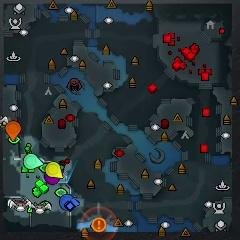Other: (92, 218, 107, 232)
p1: (59, 194, 80, 210)
p2: (23, 154, 43, 168)
p3: (44, 169, 63, 185)
p4: (46, 162, 63, 178)
p5: (5, 121, 22, 141)
